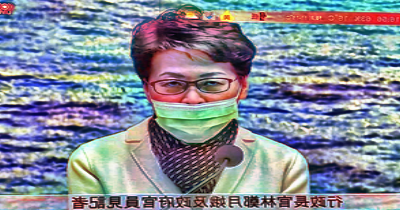mask_weared_incorrect: (146, 69, 239, 144)
